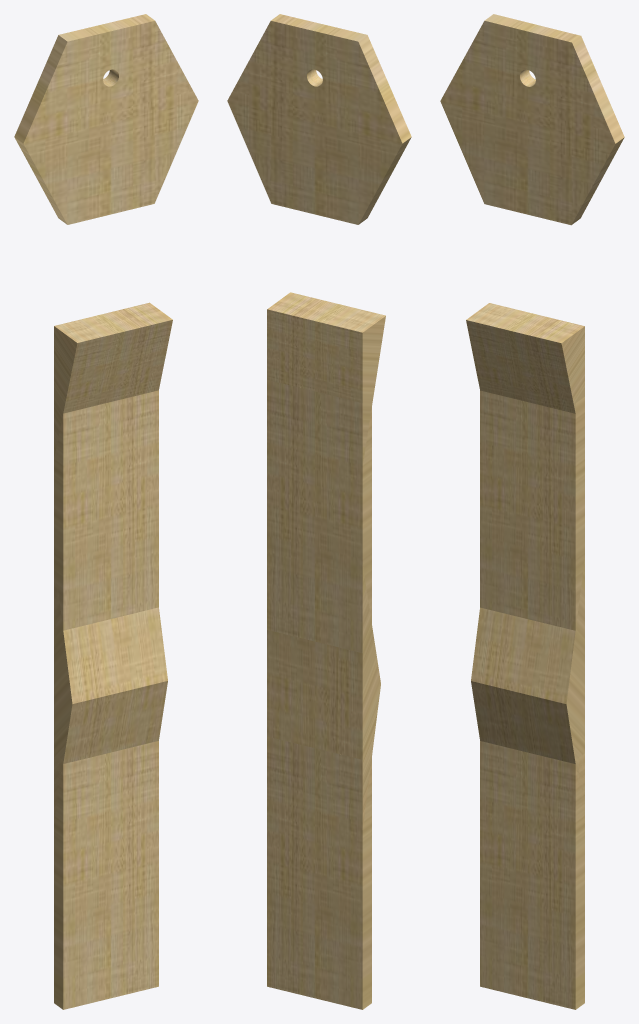
File: Hole3.obj
3 views of the same model, side by side, from view 1: azimuth 30°, elevation 25°; view 2: azimuth 150°, elevation 25°; view 3: azimuth 330°, elevation 25° (orthographic).
Visible parts, largest first — view 1: Object.5, Object.1, Object.3, Object.2, Object.4; view 2: Object.5, Object.1, Object.3, Object.2, Object.4; view 3: Object.5, Object.1, Object.3, Object.2, Object.4.
Boxes of the visible parts, left/top/right/bottom form: Object.5: left=14, top=14, right=198, bottom=224; Object.1: left=54, top=741, right=158, bottom=1009; Object.3: left=54, top=390, right=158, bottom=647; Object.2: left=54, top=583, right=167, bottom=823; Object.4: left=54, top=302, right=172, bottom=458; Object.5: left=227, top=14, right=411, bottom=224; Object.1: left=267, top=736, right=371, bottom=1009; Object.3: left=267, top=380, right=371, bottom=652; Object.2: left=267, top=565, right=380, bottom=829; Object.4: left=267, top=292, right=385, bottom=464; Object.5: left=440, top=14, right=624, bottom=225; Object.1: left=480, top=741, right=584, bottom=1009; Object.3: left=480, top=390, right=584, bottom=630; Object.2: left=471, top=558, right=584, bottom=822; Object.4: left=466, top=303, right=584, bottom=413.
Size of the model in its own units: 110 by 580 by 25.41.
